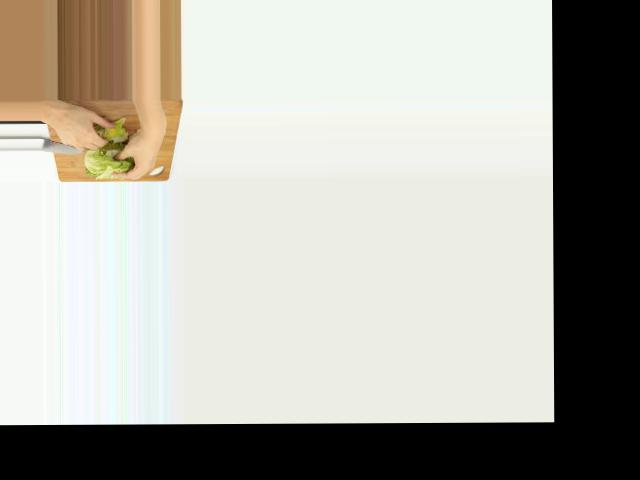lettuce: (83, 145, 131, 177)
